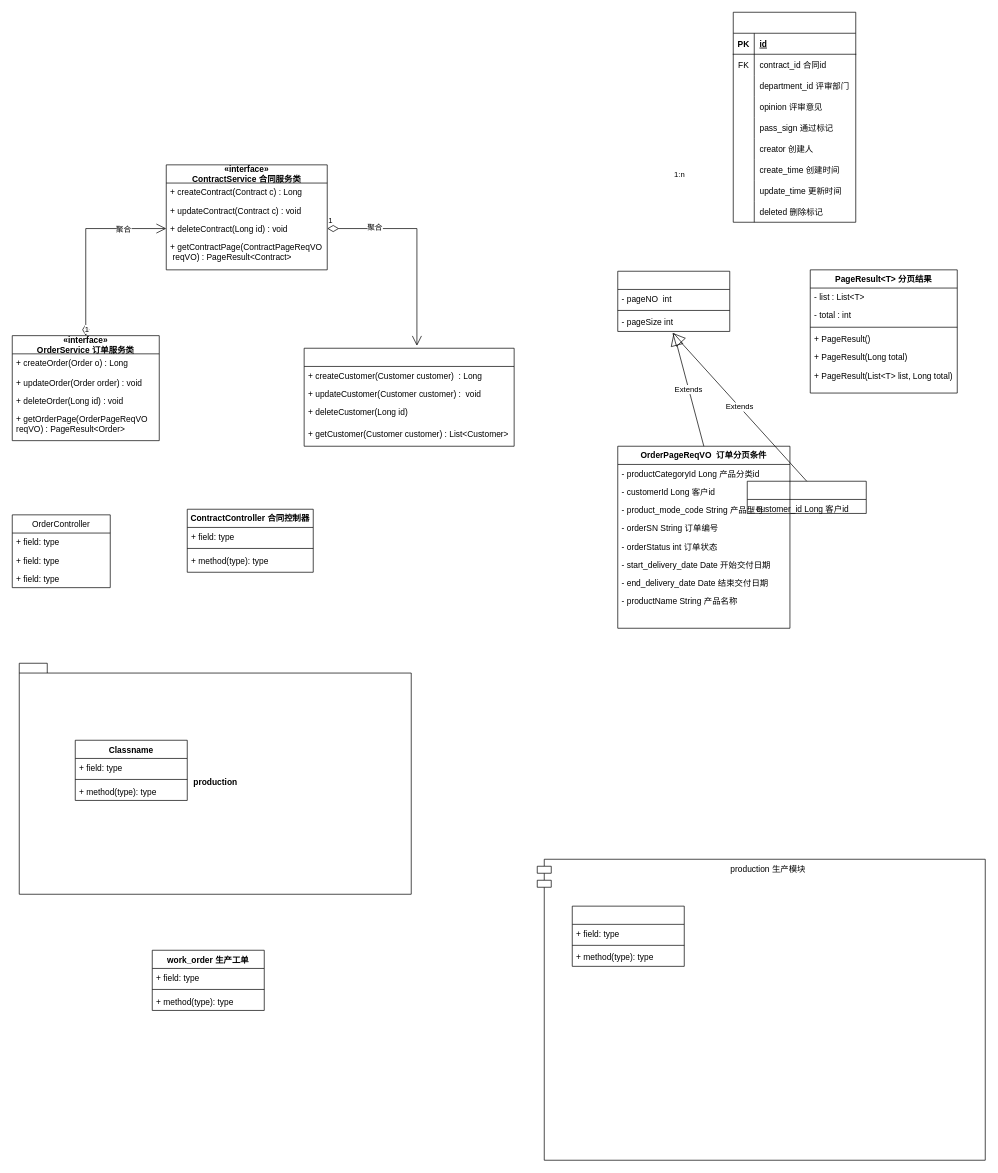
Some shapes in this 998 by 1173 pixel diagram are drawn without their labels. Here are the shapes that lost their labels. From the top down, the box of each, then its label:
(733, 12, 856, 222): contract_review 合同评审意见表
(617, 271, 730, 331): PageParam 分页参数
(303, 348, 514, 446): «interface» CustomerService 客户服务类
(747, 481, 866, 513): ContractPageReqVO 合同分页条件
(572, 905, 684, 966): work_order_process 工序表
